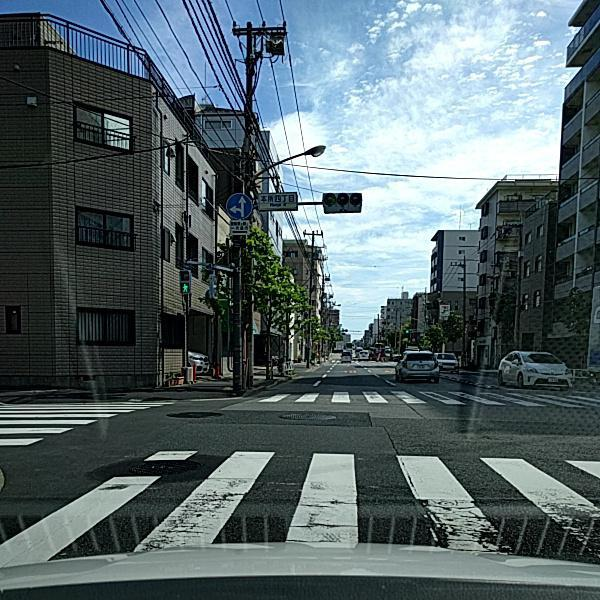D43: (64, 436, 599, 557)
D50: (122, 455, 201, 474), (276, 409, 338, 426), (159, 408, 222, 420)
